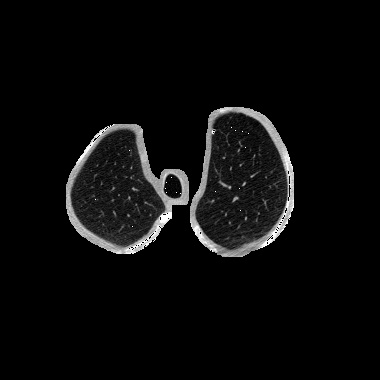PN: (211, 129, 215, 133)
